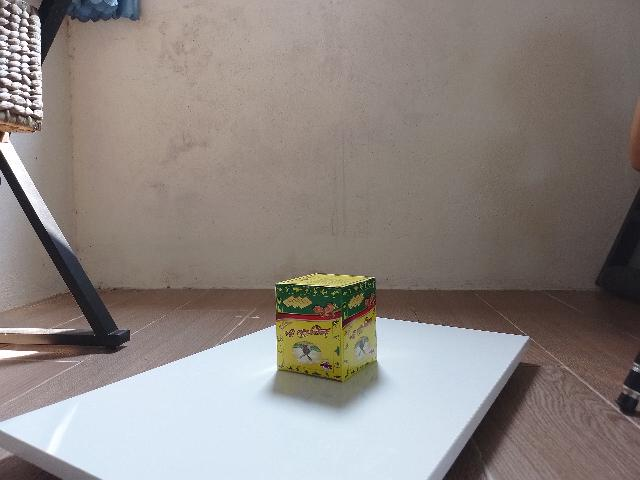luong_kho: (275, 273, 377, 382)
